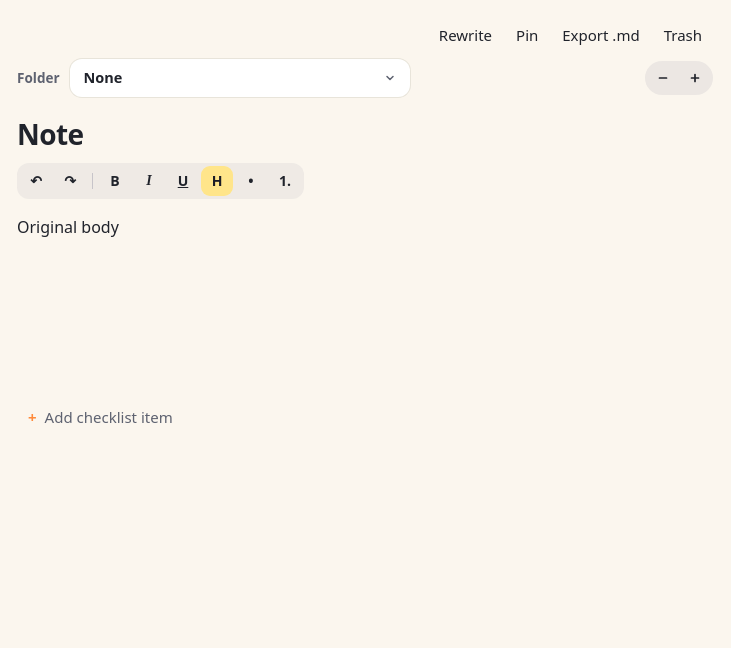
does not overwrite another window's update with a stale rewrite result
Click the button "Rewrite": coordinates (465, 35) [428,17,503,53]
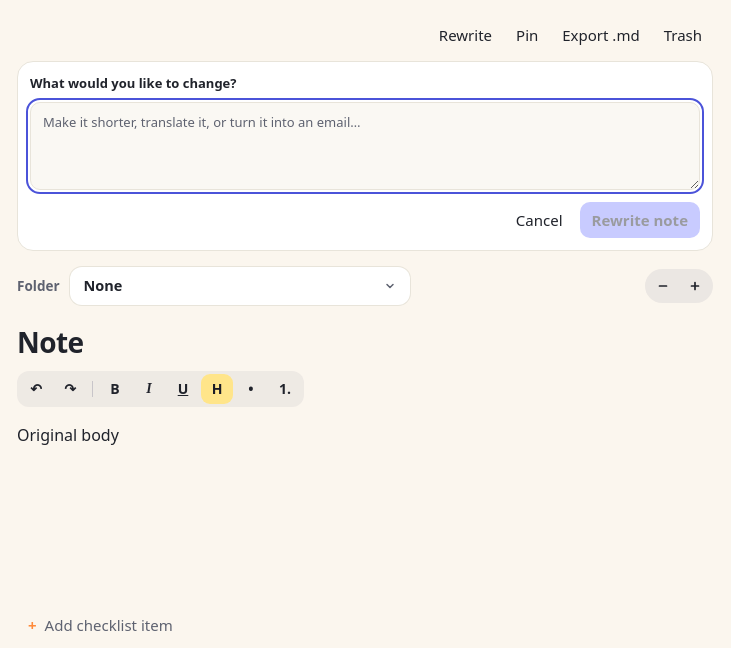
In the text box named "Rewrite instruction": coordinates (365, 146) [30,102,700,190], type "Make this shorter"
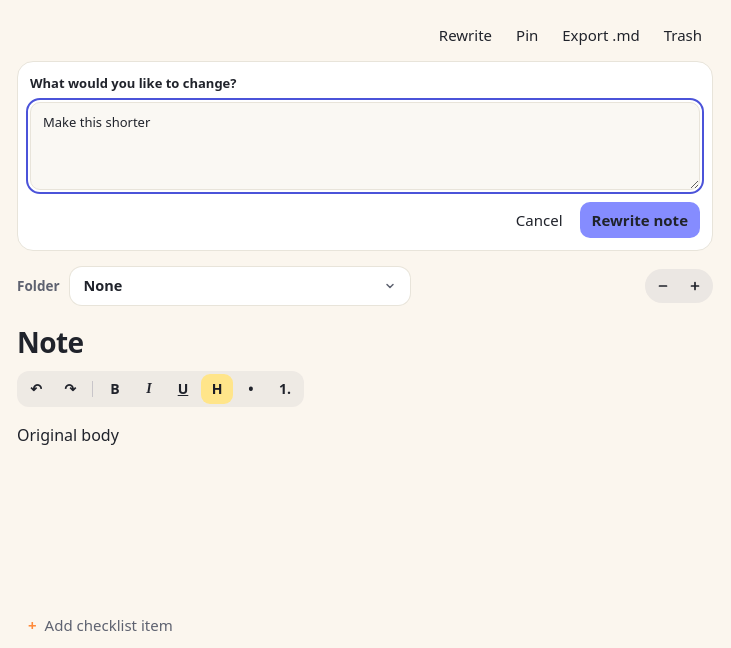
Submit the form named "Rewrite instruction", box [17,61,713,251]
Wait 600 ms
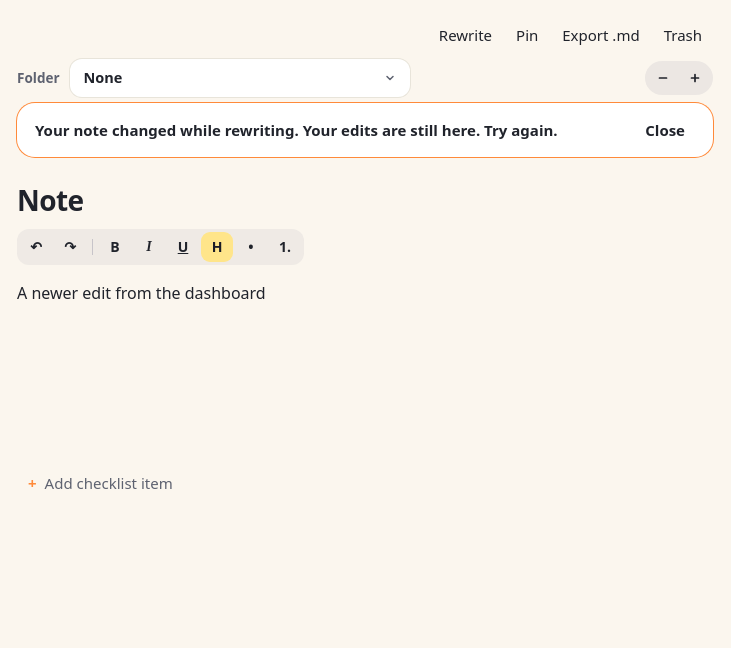
Result: the field named "Body" reads "A newer edit from the dashboard" at [17,282,266,304]
Result: the text box labelled "A newer edit from the dashboard" is shown at [17,282,266,304]
Result: the text "changed while" is shown at [35,120,558,140]
